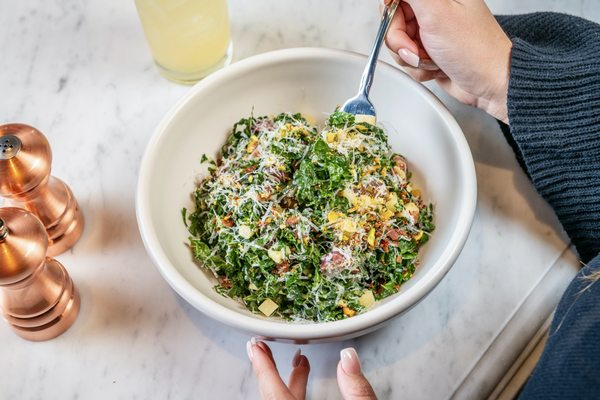salad: (342, 0, 401, 115)
sushi: (135, 45, 462, 344)
